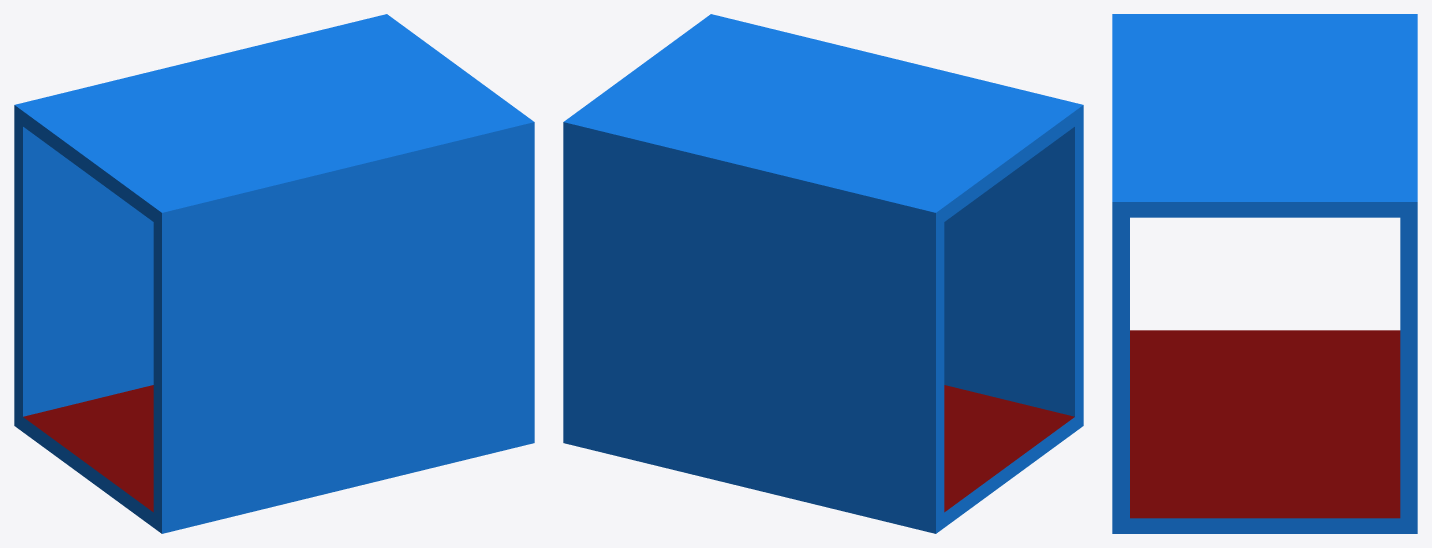
Rendered from Floor3_Path.fbx.
3 renders of one model, left to right at view 1: azimuth 30°, elevation 25°; view 2: azimuth 150°, elevation 25°; view 3: azimuth 270°, elevation 25°, orthographic. The views are drawn at different scales.
Parts seen in each view (by area): view 1: blue Mesh (1), 2 Mesh (1); view 2: blue Mesh (1), 2 Mesh (1); view 3: blue Mesh (1), 2 Mesh (1).
Boxes of the visible parts, x1=… form: blue Mesh (1): x1=14, y1=14, x2=534, y2=533; 2 Mesh (1): x1=23, y1=385, x2=153, y2=512; blue Mesh (1): x1=563, y1=14, x2=1083, y2=533; 2 Mesh (1): x1=944, y1=385, x2=1074, y2=512; blue Mesh (1): x1=1112, y1=14, x2=1417, y2=533; 2 Mesh (1): x1=1130, y1=330, x2=1400, y2=518.
Size of the model in its own units: 12.75 by 10.5 by 8.75.
